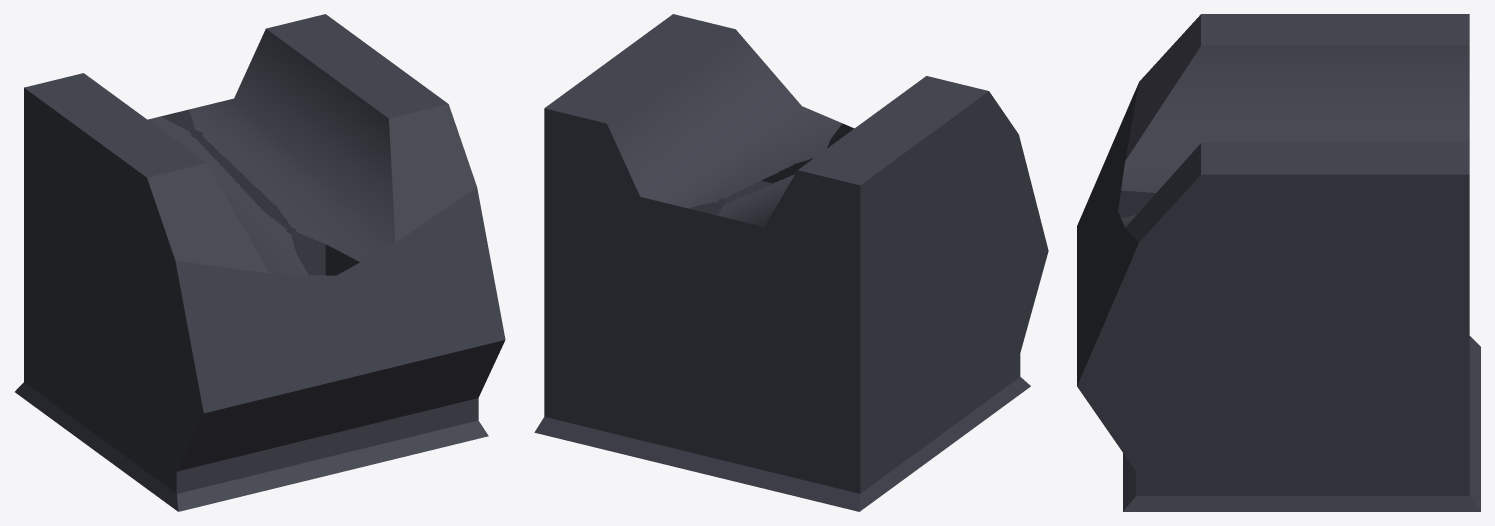
The model's file is bra fix.fbx.
3 renders of one model, left to right at view 1: azimuth 30°, elevation 25°; view 2: azimuth 150°, elevation 25°; view 3: azimuth 270°, elevation 25°, orthographic. The views are drawn at different scales.
Parts seen in each view (by area): view 1: Bra.001; view 2: Bra.001; view 3: Bra.001.
Boxes of the visible parts, x1,y1,x2,y2 form: Bra.001: (15,14,505,511); Bra.001: (534,14,1048,511); Bra.001: (1077,14,1480,511).
Bounding box in the file's own units: 20.49 × 19.36 × 21.14.
